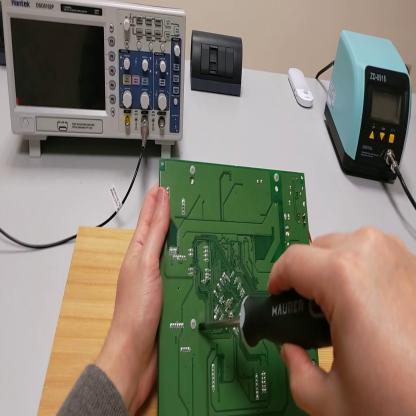hand: (267, 229, 416, 416), (114, 180, 171, 397)
low voltage board: (158, 159, 321, 416)
oscilloscope: (1, 2, 188, 164)
screwdriver-: (199, 290, 333, 352)
welder station: (325, 25, 413, 188)
working area: (36, 231, 165, 413)
